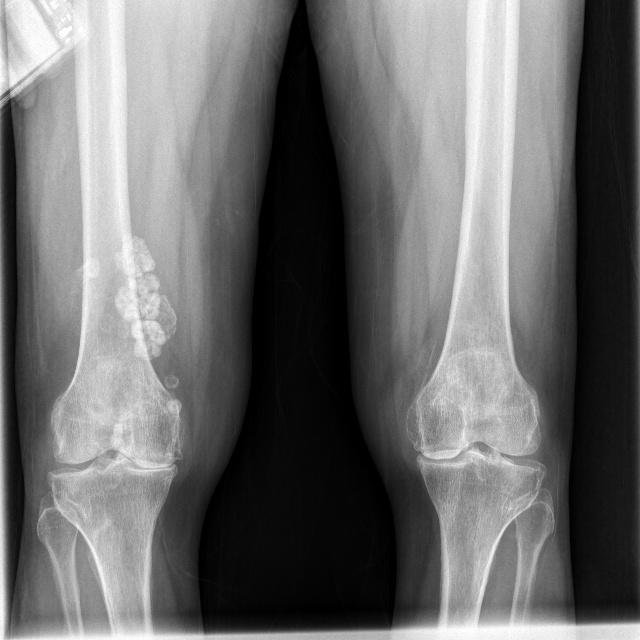Knee: (47, 385, 182, 522), (407, 378, 545, 511)
